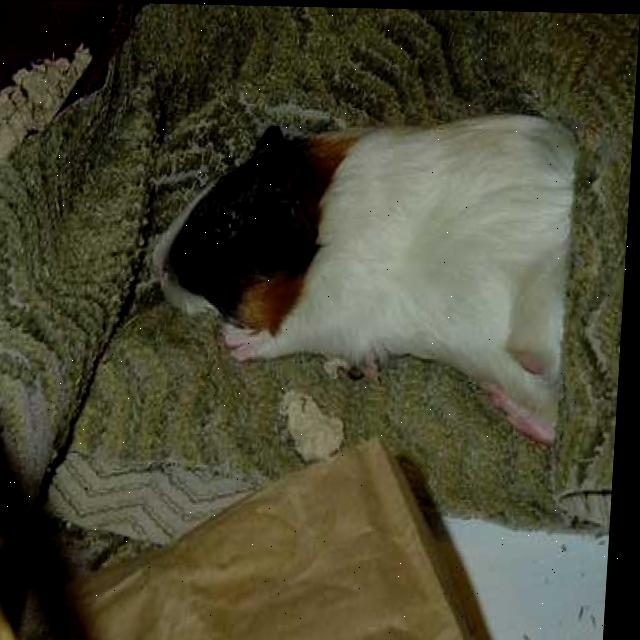guinea pig: (148, 105, 577, 439)
